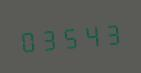five: (60, 20, 80, 52)
four: (81, 19, 101, 50)
three: (39, 22, 59, 53), (102, 17, 122, 48)
zero: (18, 24, 38, 55)
